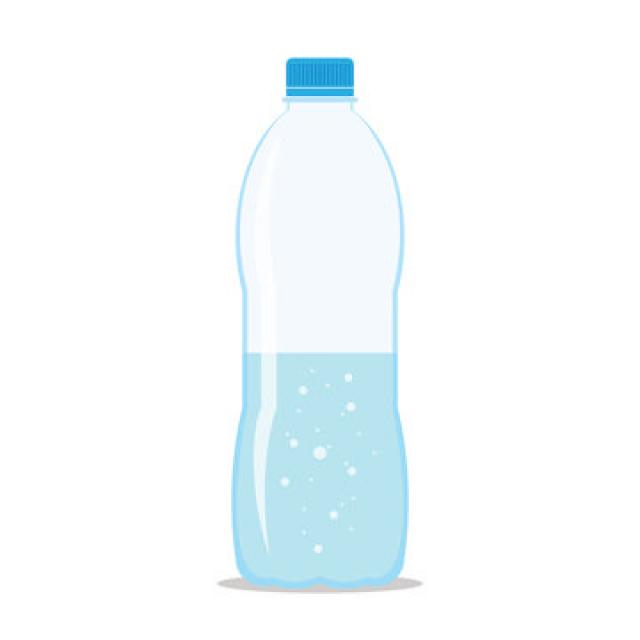bottle: (212, 53, 416, 595)
cap: (276, 50, 368, 106)
